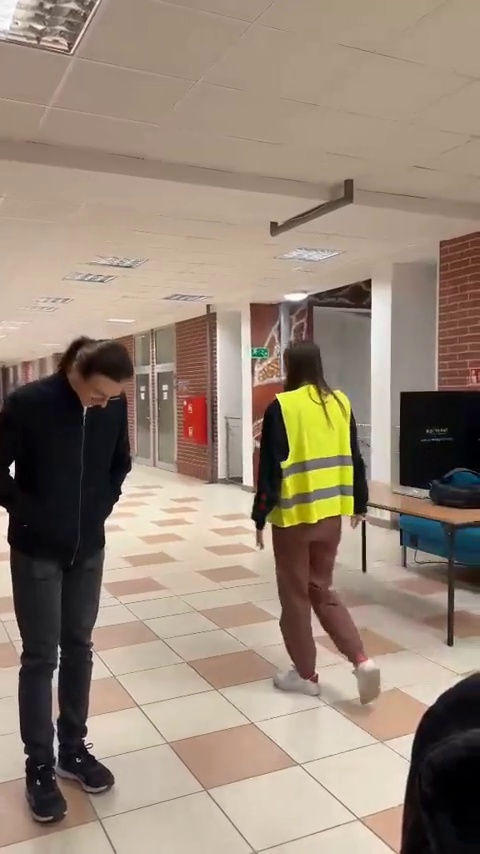no vest: (0, 326, 132, 824)
vest: (250, 341, 396, 704)
